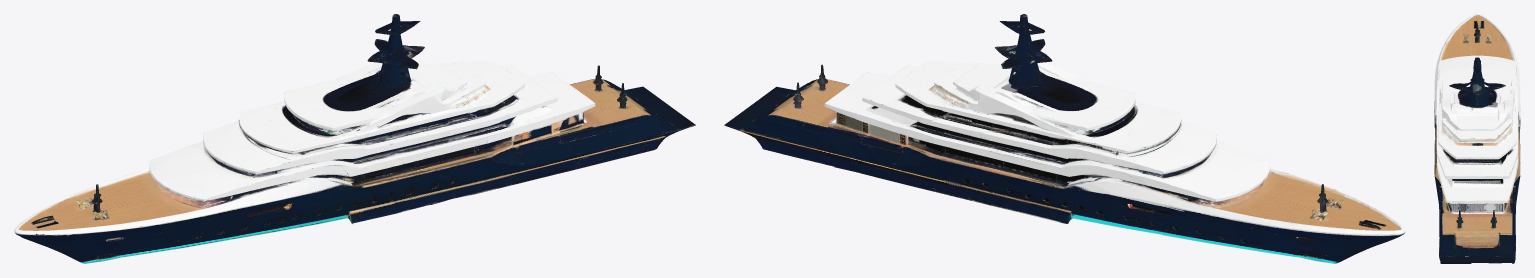
File: ocean-superyacht.glb
3 renders of one model, left to right at view 1: azimuth 30°, elevation 25°; view 2: azimuth 150°, elevation 25°; view 3: azimuth 270°, elevation 25°, orthographic. The views are drawn at different scales.
Visible parts, largest first — view 1: Mesh_0; view 2: Mesh_0; view 3: Mesh_0.
Boxes of the visible parts, x1,y1,x2,y2 form: Mesh_0: (14,14,695,263); Mesh_0: (724,14,1405,263); Mesh_0: (1434,14,1520,263).
Size of the model in its own units: 1.9 by 0.4809 by 0.3069.
Materials: 1 (1 with a texture image).
